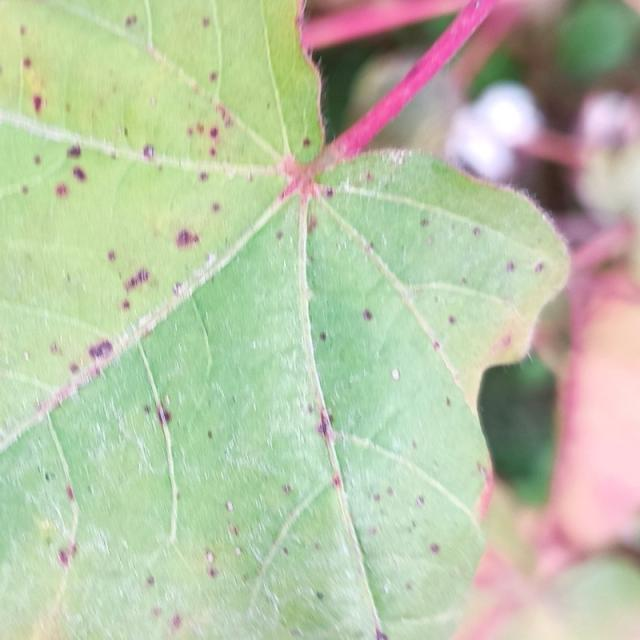Bacterial_Blight: (314, 402, 342, 437), (123, 268, 151, 293), (357, 300, 381, 327), (88, 340, 114, 360), (204, 551, 219, 579), (176, 229, 199, 247), (156, 406, 172, 425), (72, 166, 87, 182), (215, 104, 228, 122), (67, 144, 82, 158), (374, 624, 388, 639), (307, 214, 318, 233), (55, 183, 68, 198), (58, 549, 70, 565), (32, 95, 43, 112), (125, 14, 138, 28), (143, 145, 155, 159), (65, 485, 75, 501), (171, 614, 182, 628), (477, 461, 486, 478), (501, 334, 511, 347), (173, 282, 183, 295), (332, 474, 341, 488), (69, 363, 80, 374), (205, 551, 214, 564), (534, 262, 544, 273), (49, 343, 59, 354), (152, 607, 162, 618), (430, 543, 440, 554), (506, 261, 515, 273), (416, 495, 425, 507), (230, 524, 239, 536), (107, 250, 116, 262), (209, 127, 218, 138), (282, 484, 291, 495), (325, 187, 334, 198), (212, 202, 221, 213), (448, 314, 457, 325), (23, 57, 32, 68), (196, 123, 205, 134), (199, 171, 208, 182), (146, 576, 155, 587), (374, 633, 388, 640), (302, 138, 311, 148), (121, 300, 130, 310), (473, 227, 482, 237), (33, 155, 42, 165), (202, 17, 211, 27), (209, 71, 217, 82), (420, 218, 429, 227), (425, 236, 434, 245), (372, 493, 381, 502), (368, 526, 377, 535), (315, 591, 324, 600), (319, 331, 327, 341), (365, 172, 373, 182), (275, 230, 283, 240), (21, 185, 29, 195), (20, 25, 27, 36), (143, 405, 151, 414), (405, 581, 413, 590), (44, 472, 52, 481), (433, 340, 440, 350), (307, 404, 314, 414), (367, 241, 374, 251), (387, 486, 394, 496), (207, 430, 214, 440), (209, 148, 216, 157), (461, 277, 468, 285), (446, 397, 451, 407), (282, 547, 288, 555)
Cotton: (0, 0, 568, 639)
